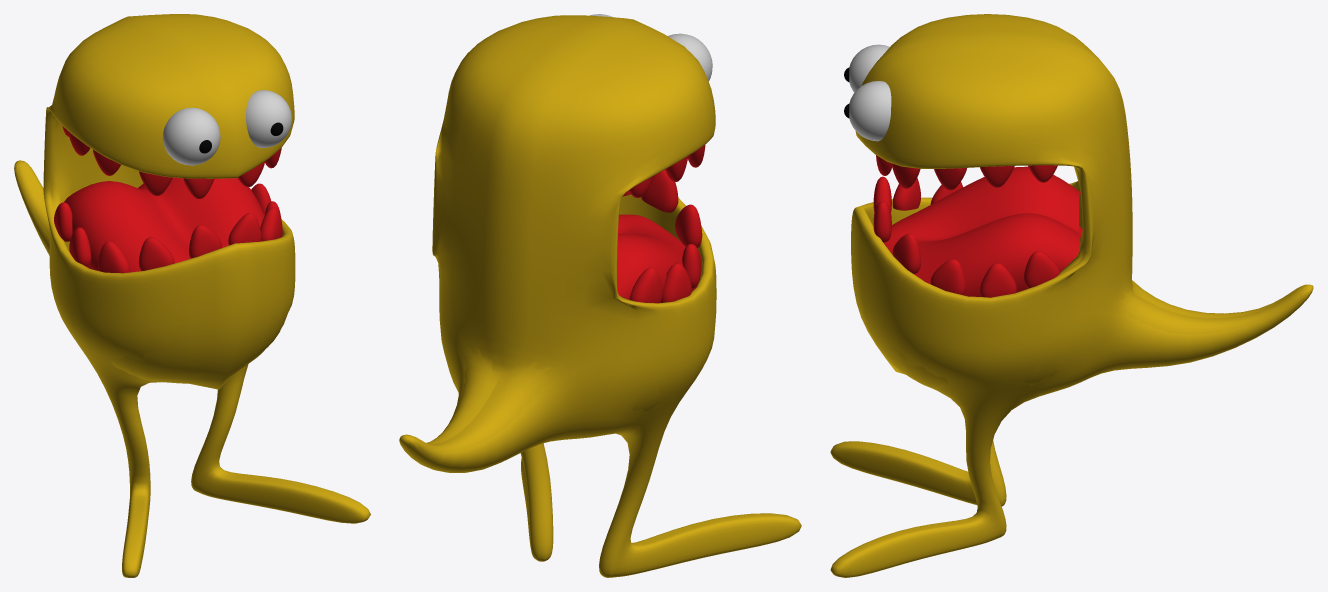
Rendered from yellowmonster.obj.
3 views of the same model, side by side, from view 1: azimuth 30°, elevation 25°; view 2: azimuth 150°, elevation 25°; view 3: azimuth 270°, elevation 25° (orthographic). The views are drawn at different scales.
Parts seen in each view (by area): view 1: Cube, Cube.001, Sphere, Cube.003, Cube.008, Cube.010, Cube.009, Cube.002, Cube.004, Cube.011; view 2: Cube, Cube.001, Cube.003, Cube.008, Cube.011, Cube.010, Sphere, Cube.009; view 3: Cube, Cube.001, Sphere, Cube.008, Cube.009, Cube.003, Cube.010, Cube.011.
Part boxes in pixels (x1,y1,x2,y2): Cube: (14,14,370,577); Cube.001: (64,177,264,272); Sphere: (162,90,291,165); Cube.003: (189,213,261,258); Cube.008: (138,207,282,271); Cube.010: (69,183,271,266); Cube.009: (98,201,281,273); Cube.002: (183,161,264,198); Cube.004: (139,148,281,195); Cube.011: (54,202,72,241); Cube: (399,15,801,577); Cube.001: (617,214,696,299); Cube.003: (623,169,678,212); Cube.008: (675,204,702,247); Cube.011: (629,267,662,303); Cube.010: (660,263,691,302); Sphere: (590,14,712,81); Cube.009: (682,244,701,288); Cube: (830,14,1313,577); Cube.001: (883,166,1082,296); Sphere: (849,44,891,141); Cube.008: (892,178,920,273); Cube.009: (930,182,966,295); Cube.003: (873,176,891,242); Cube.010: (980,263,1016,297); Cube.011: (1023,251,1060,288).
Size of the model in its own units: 2.85 by 5.15 by 4.65.
